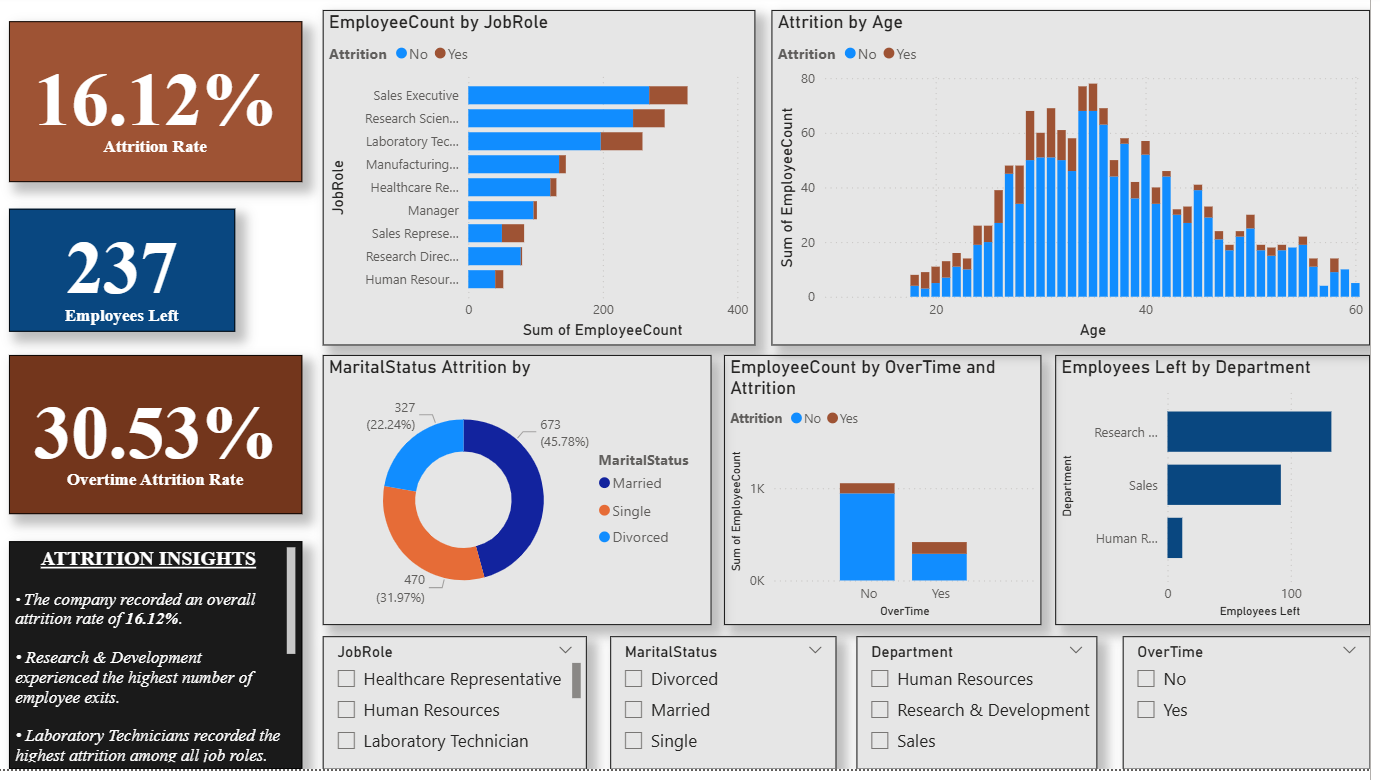

What the dashboard file says about the page in this screenshot:
{"tool":"powerbi","page":{"name":"Attrition Analysis","canvas":[1280,720],"ordinal":2},"visuals":[{"type":"card","fields":{"Values":["HR-Employee-Attrition.Employees Left"]},"box":[13.5,198.3,210.5,114.7],"z":0},{"type":"card","fields":{"Values":["HR-Employee-Attrition.Overtime Attrition Rate"]},"box":[13.5,334.6,272.5,148.4],"z":1000},{"type":"card","fields":{"Values":["HR-Employee-Attrition.Attrition Rate"]},"box":[13.5,24.3,272.5,149.7],"z":2000},{"type":"clusteredBarChart","fields":{"Y":["HR-Employee-Attrition.Employees Left"],"Category":["HR-Employee-Attrition.Department"]},"box":[987.5,334.6,292.7,250.9],"z":3000},{"type":"barChart","title":"EmployeeCount by JobRole","fields":{"Category":["HR-Employee-Attrition.JobRole"],"Y":["Sum(HR-Employee-Attrition.EmployeeCount)"],"Series":["HR-Employee-Attrition.Attrition"]},"box":[306.2,13.5,402,311.6],"z":4000},{"type":"columnChart","title":" EmployeeCount by OverTime and Attrition","fields":{"Category":["HR-Employee-Attrition.OverTime"],"Series":["HR-Employee-Attrition.Attrition"],"Y":["Sum(HR-Employee-Attrition.EmployeeCount)"]},"box":[678.6,334.6,295.4,250.9],"z":5000},{"type":"donutChart","title":" MaritalStatus  Attrition by","fields":{"Category":["HR-Employee-Attrition.MaritalStatus"],"Y":["CountNonNull(HR-Employee-Attrition.Attrition)"]},"box":[306.2,334.6,361.6,250.9],"z":6000},{"type":"columnChart","title":" Attrition by Age","fields":{"Category":["HR-Employee-Attrition.Age"],"Y":["Sum(HR-Employee-Attrition.EmployeeCount)"],"Series":["HR-Employee-Attrition.Attrition"]},"box":[723.1,13.5,557.2,311.6],"z":7000},{"type":"textbox","box":[13.5,508.6,272.5,211.8],"z":8000},{"type":"slicer","fields":{"Values":["HR-Employee-Attrition.JobRole"]},"box":[306.2,596.3,245.5,124.1],"z":9000},{"type":"slicer","fields":{"Values":["HR-Employee-Attrition.OverTime"]},"box":[1049.6,596.3,230.7,124.1],"z":10000},{"type":"slicer","fields":{"Values":["HR-Employee-Attrition.MaritalStatus"]},"box":[573.4,596.3,210.5,124.1],"z":11000},{"type":"slicer","fields":{"Values":["HR-Employee-Attrition.Department"]},"box":[802.7,596.3,223.9,124.1],"z":12000}]}

Visuals, with their boxes in screenshot pixels (x1, y1, x2, y2), scaled from the page's 1280x720 canvas onto the 1380x780 screenshot:
card - HR-Employee-Attrition.Employees Left: (left=15, top=215, right=242, bottom=339)
card - HR-Employee-Attrition.Overtime Attrition Rate: (left=15, top=362, right=308, bottom=523)
card - HR-Employee-Attrition.Attrition Rate: (left=15, top=26, right=308, bottom=188)
clusteredBarChart - HR-Employee-Attrition.Employees Left x HR-Employee-Attrition.Department: (left=1065, top=362, right=1379, bottom=634)
"EmployeeCount by JobRole" barChart: (left=330, top=15, right=764, bottom=352)
" EmployeeCount by OverTime and Attrition" columnChart: (left=732, top=362, right=1050, bottom=634)
" MaritalStatus  Attrition by" donutChart: (left=330, top=362, right=720, bottom=634)
" Attrition by Age" columnChart: (left=780, top=15, right=1379, bottom=352)
textbox: (left=15, top=551, right=308, bottom=779)
slicer - HR-Employee-Attrition.JobRole: (left=330, top=646, right=595, bottom=779)
slicer - HR-Employee-Attrition.OverTime: (left=1132, top=646, right=1379, bottom=779)
slicer - HR-Employee-Attrition.MaritalStatus: (left=618, top=646, right=845, bottom=779)
slicer - HR-Employee-Attrition.Department: (left=865, top=646, right=1107, bottom=779)
